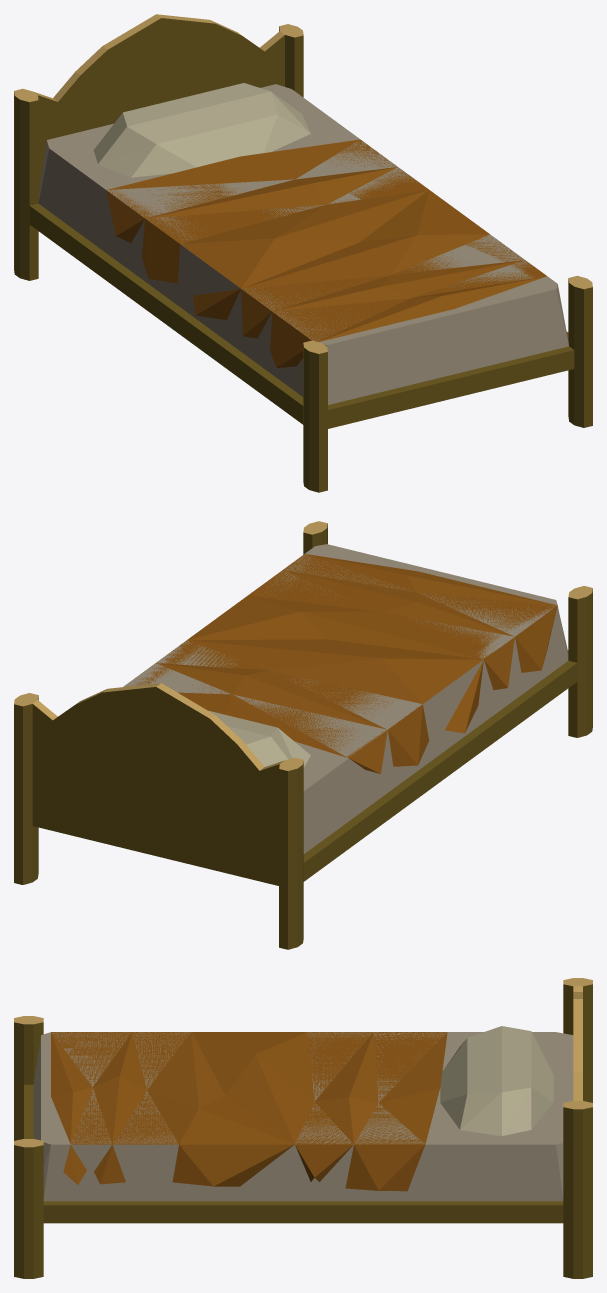
3 renders of one model, top to bottom at view 1: azimuth 30°, elevation 25°; view 2: azimuth 150°, elevation 25°; view 3: azimuth 270°, elevation 25°, orthographic. The views are drawn at different scales.
Bounding box in the file's own units: 126 × 96 × 235.
1 material, 1 textured.
